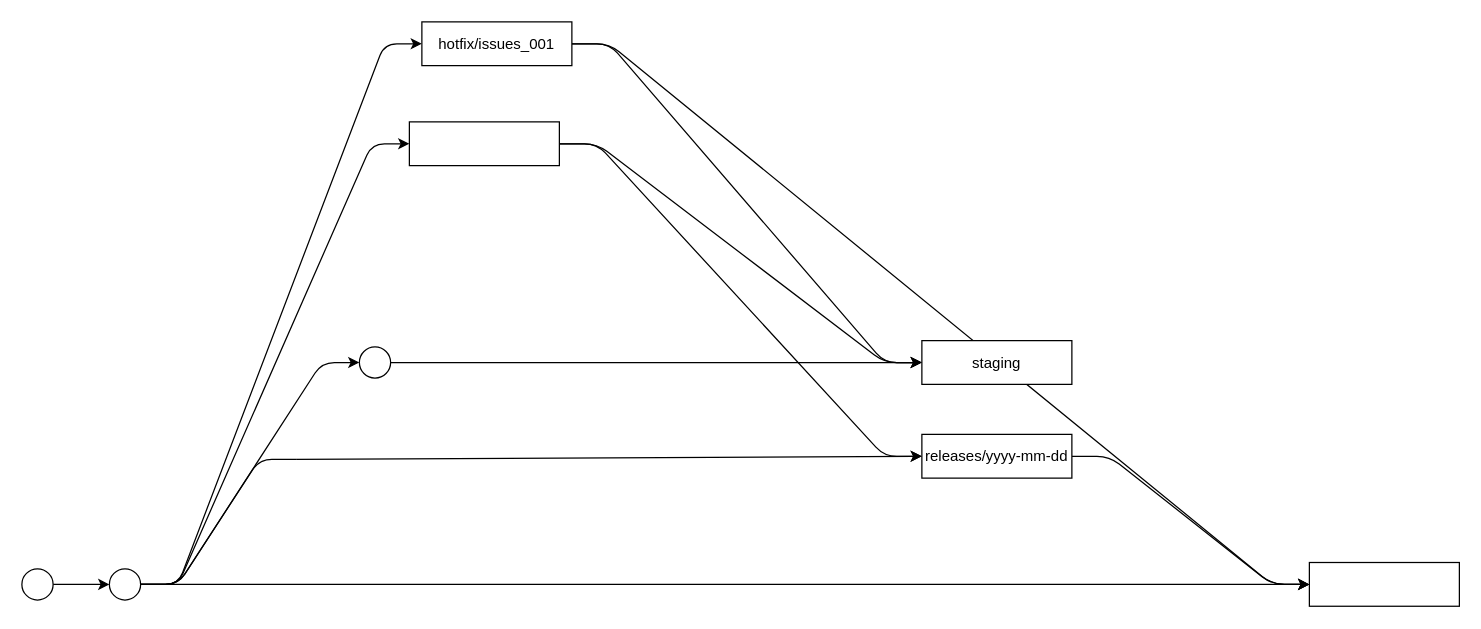
This 1481x629 diagram has some shape labels left out. The centre of each missing label's shape, as x and y in pixels:
"feature/sampleA" goes at (x=483, y=143).
"master" goes at (x=1383, y=583).
